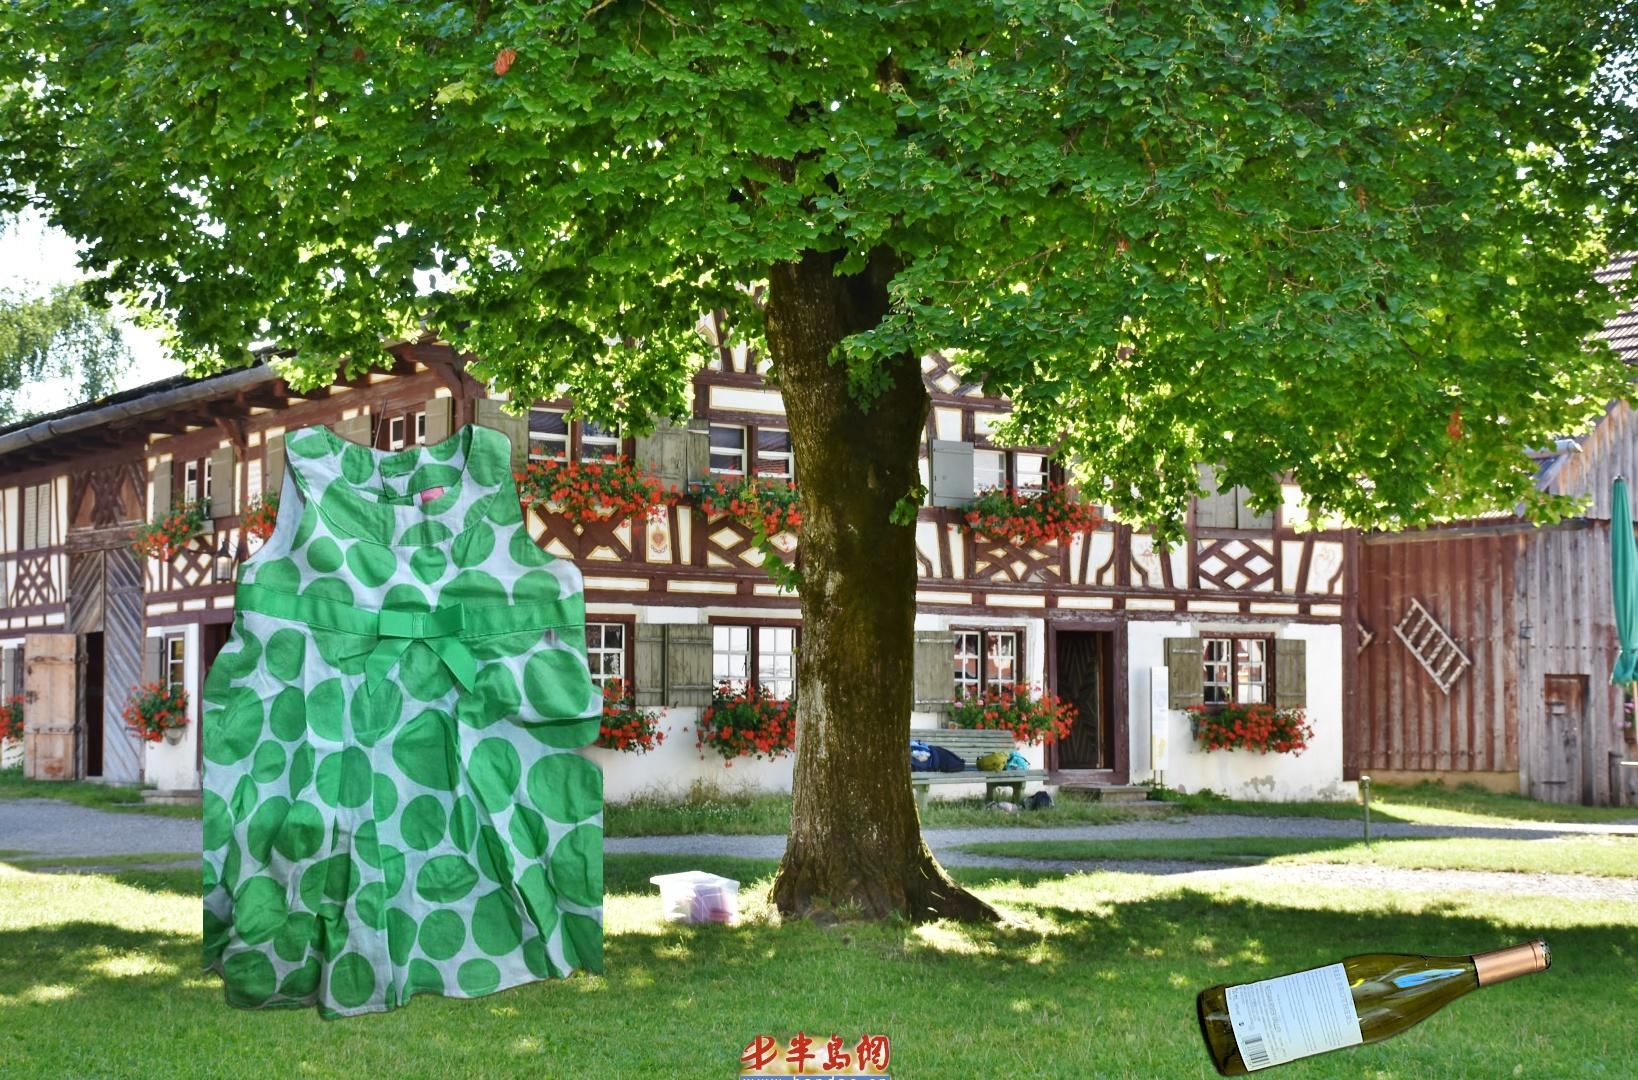biological: (727, 1022, 905, 1080)
clothes: (202, 397, 603, 1028)
glass: (1191, 922, 1556, 1080)
